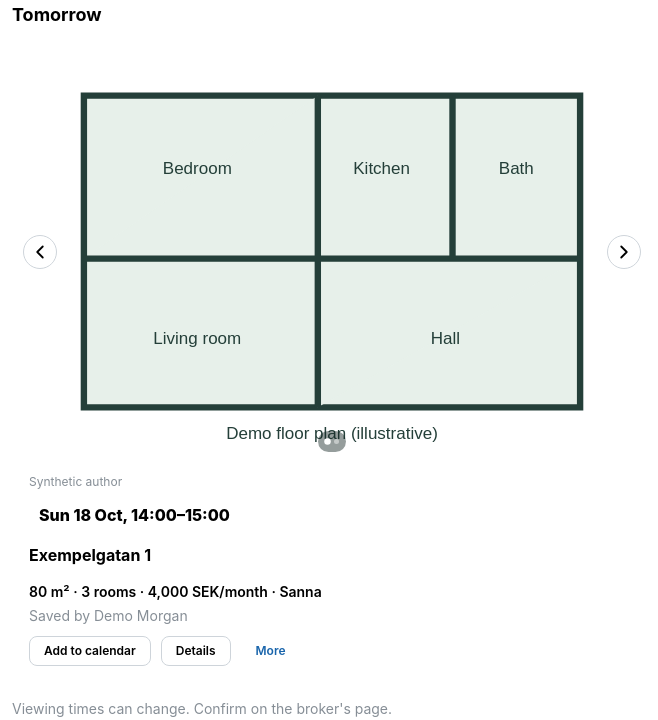
Test case: omits See on map for homes without a usable location
(page scrolled)
Click the button with aria-label "More actions for Exempelgatan 1".
click(270, 651)  # box [240, 636, 300, 666]
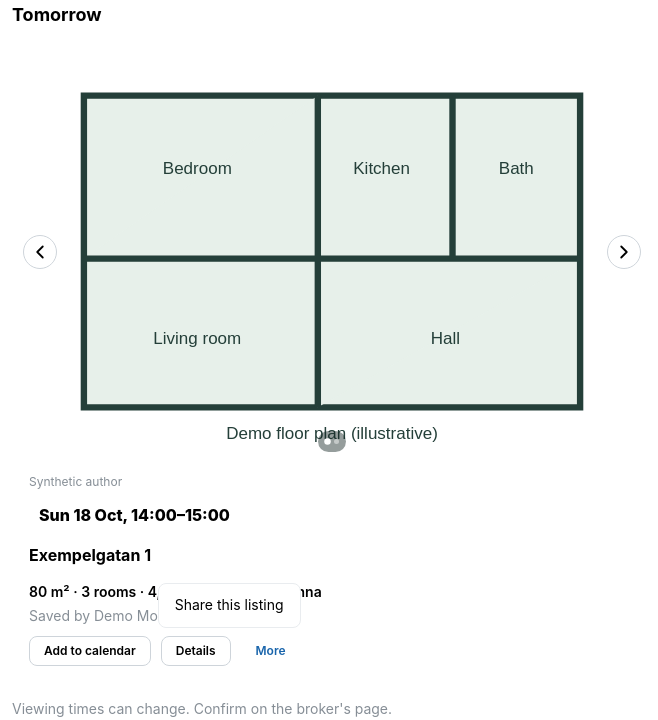
Now the menu item "Share this listing" is shown, box [163, 588, 296, 623]
